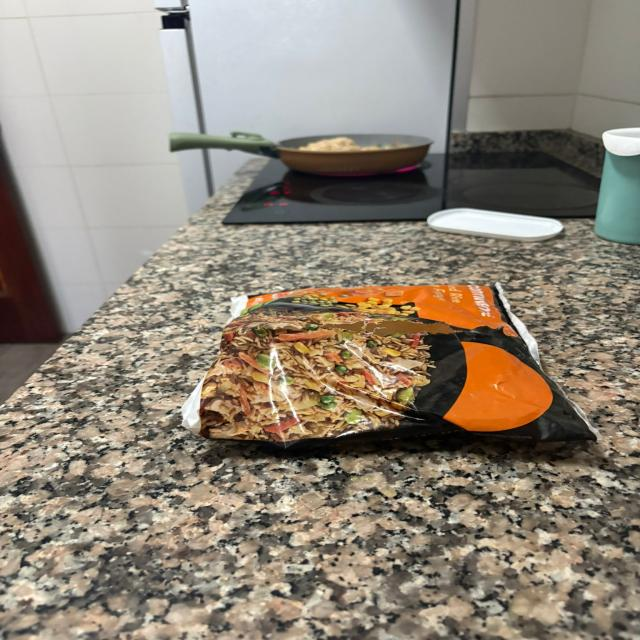damaged_package: (183, 283, 608, 457)
